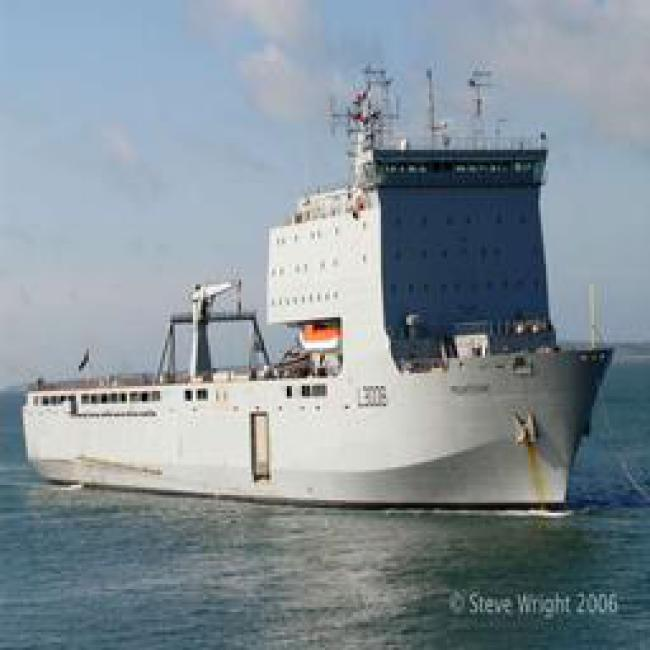Ship: (3, 338, 613, 522)
